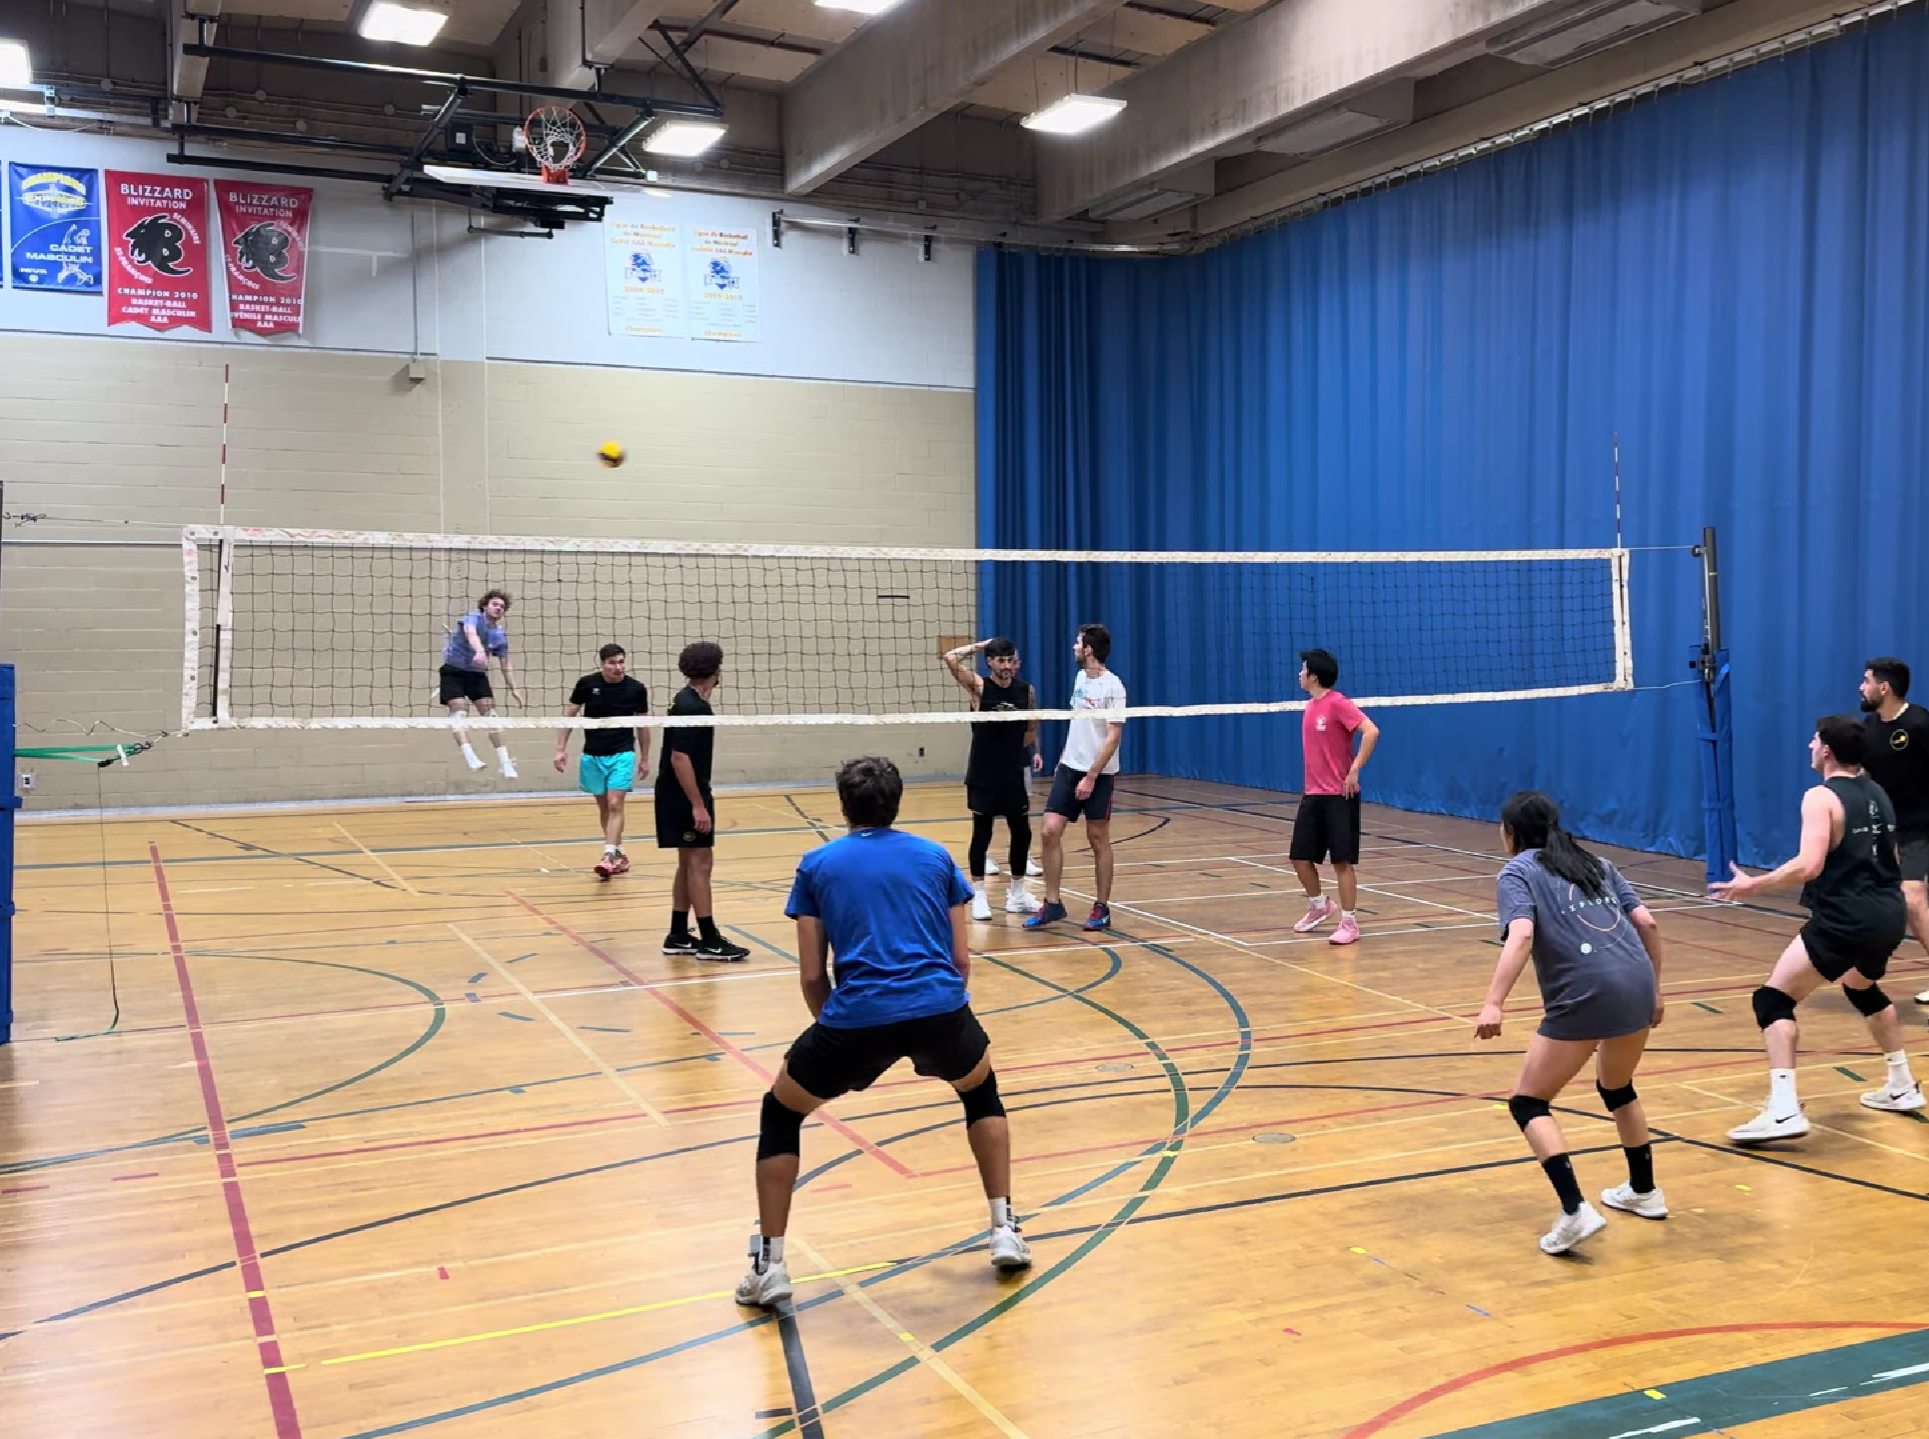Ball: (594, 437, 629, 470)
